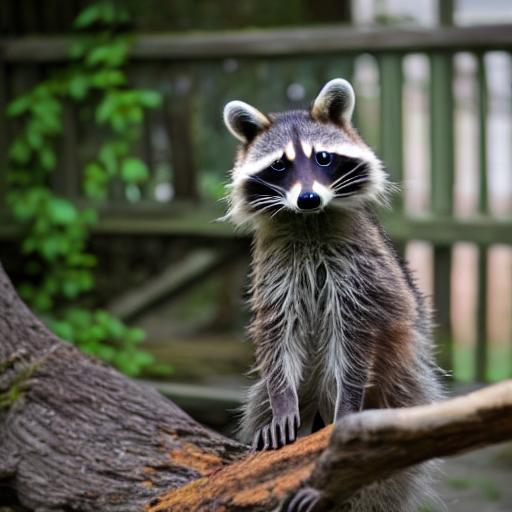raccoon: (203, 73, 441, 411)
